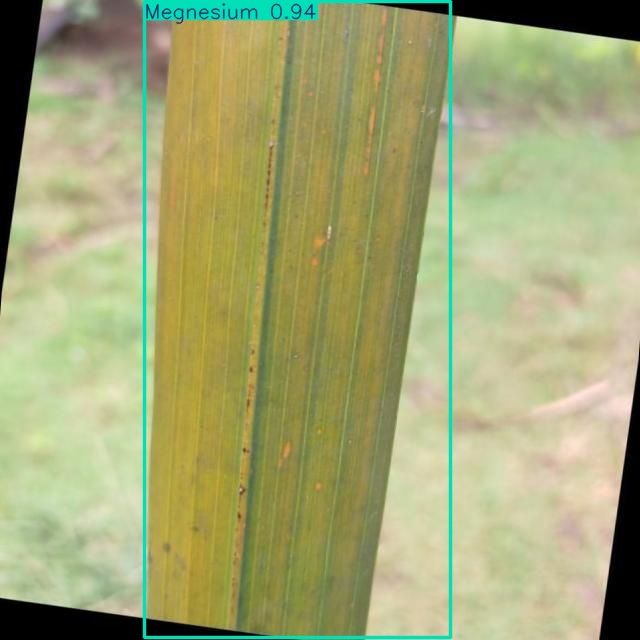Megnesium: (145, 1, 450, 637)
